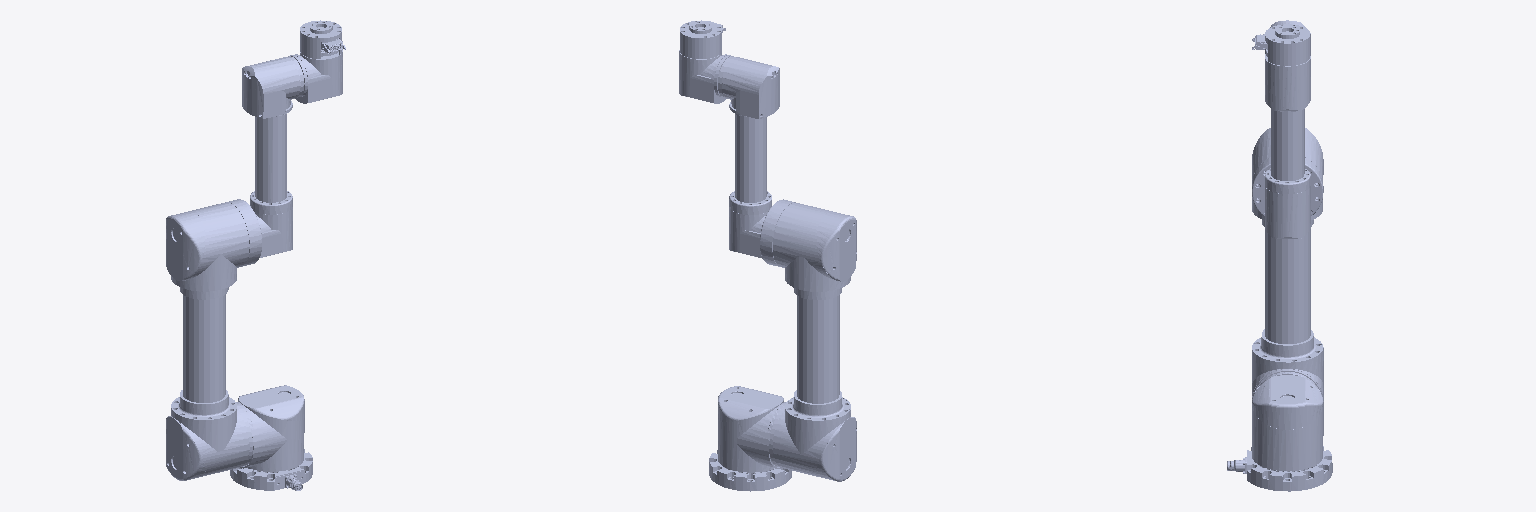
robot.urdf — fsrobo_r:
<robot
  name="fsrobo_r">
  <link
    name="base_link">
    <inertial>
      <origin
        xyz="6.20129635789006E-06 0.00135671010372665 0.00692741827175326"
        rpy="0 0 0" />
      <mass
        value="0.224918104064038" />
      <inertia
        ixx="0.000389773121010351"
        ixy="5.34979023842647E-08"
        ixz="2.00299715681034E-09"
        iyy="0.000393784206533644"
        iyz="1.8618345474573E-06"
        izz="0.000763322543979528" />
    </inertial>
    <visual>
      <origin
        xyz="0 0 0"
        rpy="0 0 0" />
      <geometry>
        <mesh
          filename="package://fsrobo_r_description/meshes/base_link.STL" />
      </geometry>
      <material
        name="">
        <color
          rgba="0.792156862745098 0.819607843137255 0.933333333333333 1" />
      </material>
    </visual>
    <collision>
      <origin
        xyz="0 0 0"
        rpy="0 0 0" />
      <geometry>
        <mesh
          filename="package://fsrobo_r_description/meshes/base_link.STL" />
      </geometry>
    </collision>
  </link>
  <link
    name="Link1">
    <inertial>
      <origin
        xyz="-0.00449037408423813 5.42440907528791E-06 0.0715874027691071"
        rpy="0 0 0" />
      <mass
        value="1.1964979585014" />
      <inertia
        ixx="0.00235325407469509"
        ixy="-1.48424194830244E-07"
        ixz="0.00016645431594179"
        iyy="0.00238080305757056"
        iyz="-3.71645517568927E-07"
        izz="0.00214862307498412" />
    </inertial>
    <visual>
      <origin
        xyz="0 0 0"
        rpy="0 0 0" />
      <geometry>
        <mesh
          filename="package://fsrobo_r_description/meshes/Link1.STL" />
      </geometry>
      <material
        name="">
        <color
          rgba="0.792156862745098 0.819607843137255 0.933333333333333 1" />
      </material>
    </visual>
    <collision>
      <origin
        xyz="0 0 0"
        rpy="0 0 0" />
      <geometry>
        <mesh
          filename="package://fsrobo_r_description/meshes/Link1.STL" />
      </geometry>
    </collision>
  </link>
  <joint
    name="Joint1"
    type="revolute">
    <origin
      xyz="0 0 0"
      rpy="0 0 0" />
    <parent
      link="base_link" />
    <child
      link="Link1" />
    <axis
      xyz="0 0 1" />
    <limit
      lower="-4.1888"
      upper="4.1888"
      effort="0"
      velocity="3.11049" />
  </joint>
  <link
    name="Link2">
    <inertial>
      <origin
        xyz="-0.126463562505262 -3.03757464646919E-14 0.189799410965193"
        rpy="0 0 0" />
      <mass
        value="3.71491032829736" />
      <inertia
        ixx="0.0996449226656911"
        ixy="-4.07081213433656E-15"
        ixz="0.000531355089159735"
        iyy="0.100320218055197"
        iyz="-2.73732399977317E-06"
        izz="0.00607078426291308" />
    </inertial>
    <visual>
      <origin
        xyz="0 0 0"
        rpy="0 0 0" />
      <geometry>
        <mesh
          filename="package://fsrobo_r_description/meshes/Link2.STL" />
      </geometry>
      <material
        name="">
        <color
          rgba="0.792156862745098 0.819607843137255 0.933333333333333 1" />
      </material>
    </visual>
    <collision>
      <origin
        xyz="0 0 0"
        rpy="0 0 0" />
      <geometry>
        <mesh
          filename="package://fsrobo_r_description/meshes/Link2.STL" />
      </geometry>
    </collision>
  </link>
  <joint
    name="Joint2"
    type="revolute">
    <origin
      xyz="0 0 0.0875"
      rpy="0 0 0" />
    <parent
      link="Link1" />
    <child
      link="Link2" />
    <axis
      xyz="1 0 0" />
    <limit
      lower="-4.1888"
      upper="4.1888"
      effort="0"
      velocity="3.11049" />
  </joint>
  <link
    name="Link3">
    <inertial>
      <origin
        xyz="-0.0181715886077434 -8.39942636869206E-06 0.00361736607529833"
        rpy="0 0 0" />
      <mass
        value="0.503493344111679" />
      <inertia
        ixx="0.000606835380422718"
        ixy="2.96258447607099E-07"
        ixz="-6.8421095589689E-05"
        iyy="0.000746558385545657"
        iyz="-2.34699770879584E-08"
        izz="0.000681452998524084" />
    </inertial>
    <visual>
      <origin
        xyz="0 0 0"
        rpy="0 0 0" />
      <geometry>
        <mesh
          filename="package://fsrobo_r_description/meshes/Link3.STL" />
      </geometry>
      <material
        name="">
        <color
          rgba="0.792156862745098 0.819607843137255 0.933333333333333 1" />
      </material>
    </visual>
    <collision>
      <origin
        xyz="0 0 0"
        rpy="0 0 0" />
      <geometry>
        <mesh
          filename="package://fsrobo_r_description/meshes/Link3.STL" />
      </geometry>
    </collision>
  </link>
  <joint
    name="Joint3"
    type="revolute">
    <origin
      xyz="0 0 0.385"
      rpy="0 0 0" />
    <parent
      link="Link2" />
    <child
      link="Link3" />
    <axis
      xyz="1 0 0" />
    <limit
      lower="-4.1888"
      upper="4.1888"
      effort="0"
      velocity="3.11049" />
  </joint>
  <link
    name="Link4">
    <inertial>
      <origin
        xyz="0.00290243681192058 4.92118154597773E-06 -0.0738374738187304"
        rpy="0 0 0" />
      <mass
        value="0.835817436377135" />
      <inertia
        ixx="0.0051838603413169"
        ixy="4.30855334856876E-08"
        ixz="-0.000214303665531665"
        iyy="0.00526559628549006"
        iyz="-4.86165136068341E-07"
        izz="0.000590028561985229" />
    </inertial>
    <visual>
      <origin
        xyz="0 0 0"
        rpy="0 0 0" />
      <geometry>
        <mesh
          filename="package://fsrobo_r_description/meshes/Link4.STL" />
      </geometry>
      <material
        name="">
        <color
          rgba="0.792156862745098 0.819607843137255 0.933333333333333 1" />
      </material>
    </visual>
    <collision>
      <origin
        xyz="0 0 0"
        rpy="0 0 0" />
      <geometry>
        <mesh
          filename="package://fsrobo_r_description/meshes/Link4.STL" />
      </geometry>
    </collision>
  </link>
  <joint
    name="Joint4"
    type="revolute">
    <origin
      xyz="0 0 0.275"
      rpy="0 0 0" />
    <parent
      link="Link3" />
    <child
      link="Link4" />
    <axis
      xyz="0 0 1" />
    <limit
      lower="-4.1888"
      upper="4.1888"
      effort="0"
      velocity="3.11049" />
  </joint>
  <link
    name="Link5">
    <inertial>
      <origin
        xyz="-0.00762763949469519 -1.06459091140225E-05 0.00458167547641364"
        rpy="0 0 0" />
      <mass
        value="0.397519557815901" />
      <inertia
        ixx="0.00038454224185"
        ixy="2.51938979759281E-07"
        ixz="-4.92173834393031E-05"
        iyy="0.000421678593966681"
        iyz="-2.77663008675825E-08"
        izz="0.000358331267792745" />
    </inertial>
    <visual>
      <origin
        xyz="0 0 0"
        rpy="0 0 0" />
      <geometry>
        <mesh
          filename="package://fsrobo_r_description/meshes/Link5.STL" />
      </geometry>
      <material
        name="">
        <color
          rgba="0.792156862745098 0.819607843137255 0.933333333333333 1" />
      </material>
    </visual>
    <collision>
      <origin
        xyz="0 0 0"
        rpy="0 0 0" />
      <geometry>
        <mesh
          filename="package://fsrobo_r_description/meshes/Link5.STL" />
      </geometry>
    </collision>
  </link>
  <joint
    name="Joint5"
    type="revolute">
    <origin
      xyz="0.1003 0 0"
      rpy="0 0 0" />
    <parent
      link="Link4" />
    <child
      link="Link5" />
    <axis
      xyz="1 0 0" />
    <limit
      lower="-4.1888"
      upper="4.1888"
      effort="0"
      velocity="3.11049" />
  </joint>
  <link
    name="Link6">
    <inertial>
      <origin
        xyz="0.001824741161344 -1.2714577393637E-05 -0.0183104466551915"
        rpy="0 0 0" />
      <mass
        value="0.0659925254230773" />
      <inertia
        ixx="3.46638767440248E-05"
        ixy="-3.0599679783686E-08"
        ixz="-5.91110846528508E-07"
        iyy="4.40852639111946E-05"
        iyz="4.19435440614541E-09"
        izz="6.53486052794694E-05" />
    </inertial>
    <visual>
      <origin
        xyz="0 0 0"
        rpy="0 0 0" />
      <geometry>
        <mesh
          filename="package://fsrobo_r_description/meshes/Link6.STL" />
      </geometry>
      <material
        name="">
        <color
          rgba="0.792156862745098 0.819607843137255 0.933333333333333 1" />
      </material>
    </visual>
    <collision>
      <origin
        xyz="0 0 0"
        rpy="0 0 0" />
      <geometry>
        <mesh
          filename="package://fsrobo_r_description/meshes/Link6.STL" />
      </geometry>
    </collision>
  </link>
  <joint
    name="Joint6"
    type="revolute">
    <origin
      xyz="0 0 0.085"
      rpy="0 0 -1.5707" />
    <parent
      link="Link5" />
    <child
      link="Link6" />
    <axis
      xyz="0 0 1" />
    <limit
      lower="-6.2832"
      upper="6.2832"
      effort="0"
      velocity="3.11049" />
  </joint>
</robot>

--- What the picture shows (computed from the rendered views, not written in the file) ---
3 views of the same robot in one strip: view 1: azimuth 30°, elevation 25°; view 2: azimuth 150°, elevation 25°; view 3: azimuth 270°, elevation 25° (orthographic).
Robot: fsrobo_r — 7 links, 6 joints (6 revolute); root link base_link; default pose: every joint at zero.
Visible links, largest first — view 1: Link2, Link4, Link1, Link3, Link5, base_link, Link6; view 2: Link2, Link4, Link1, Link3, Link5, base_link, Link6; view 3: Link2, Link1, Link3, Link4, base_link, Link5, Link6.
Boxes of the visible links, x1,y1,x2,y2 form: Link2: (166, 202, 253, 480); Link4: (242, 56, 304, 214); Link1: (237, 385, 304, 472); Link3: (229, 199, 292, 266); Link5: (290, 49, 342, 103); base_link: (230, 449, 312, 490); Link6: (300, 20, 345, 58); Link2: (768, 203, 856, 481); Link4: (718, 56, 779, 214); Link1: (718, 386, 785, 473); Link3: (729, 199, 795, 266); Link5: (679, 50, 730, 103); base_link: (709, 450, 791, 491); Link6: (680, 20, 725, 58); Link2: (1252, 128, 1323, 400); Link1: (1252, 375, 1323, 471); Link3: (1252, 157, 1323, 238); Link4: (1265, 20, 1310, 193); base_link: (1227, 446, 1332, 491); Link5: (1265, 49, 1310, 111); Link6: (1252, 24, 1310, 65).
Bounding box of the posed robot: 0.3321 × 0.17 × 0.8365 m (x, y, z).
7 mesh visuals loaded from 7 distinct referenced files (7 binary STL).